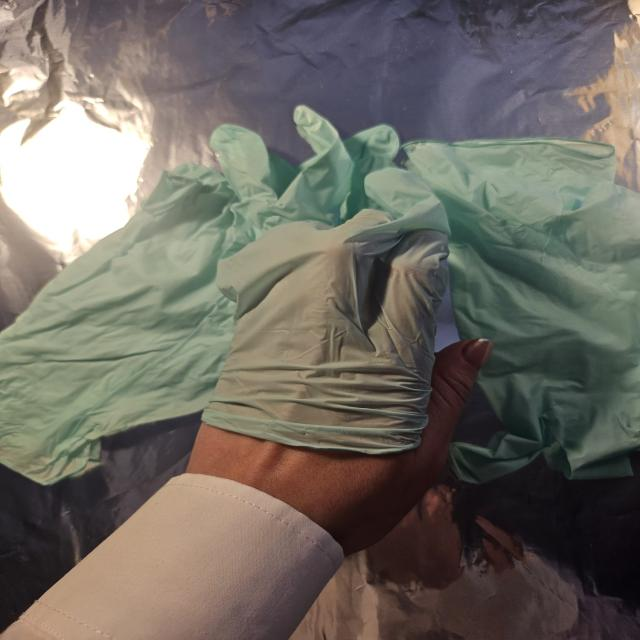glove_partial: (188, 103, 494, 540)
